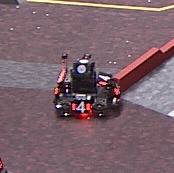armor: (70, 101, 93, 116), (96, 69, 110, 88)
car: (50, 50, 124, 123)
